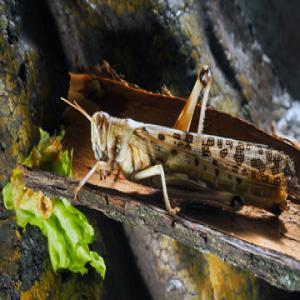locust: (60, 85, 300, 210)
